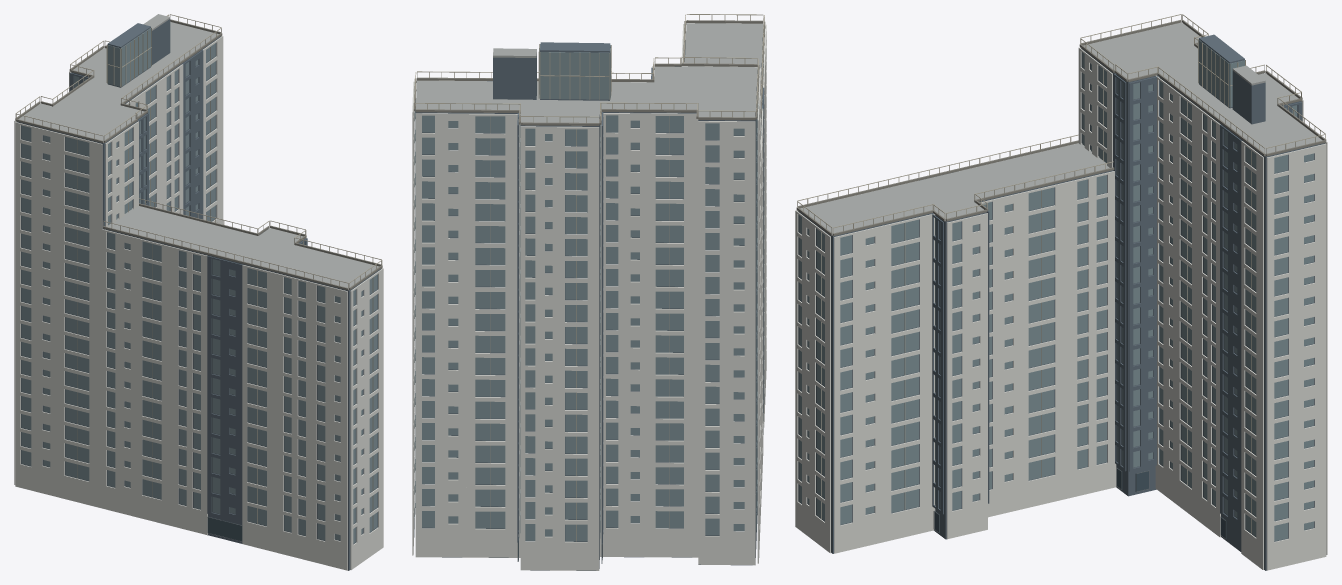
The model's file is bespoke-raemian-onebailey-107.glb.
3 renders of one model, left to right at view 1: azimuth 30°, elevation 25°; view 2: azimuth 150°, elevation 25°; view 3: azimuth 270°, elevation 25°, orthographic. The views are drawn at different scales.
Visible parts, largest first — view 1: 107_pale_bays_navy_shafts001_4, 107_pale_bays_navy_shafts001, 107_glass_roof_crown001_3, 107_pale_bays_navy_shafts001_3, 107_editable_massing, 107_glass_roof_crown001, 107_glass_roof_crown001_1, 107_pale_bays_navy_shafts001_2, 107_pale_bays_navy_shafts001_1; view 2: 107_pale_bays_navy_shafts001_4, 107_pale_bays_navy_shafts001, 107_glass_roof_crown001_3, 107_editable_massing, 107_glass_roof_crown001, 107_pale_bays_navy_shafts001_3, 107_pale_bays_navy_shafts001_2, 107_glass_roof_crown001_1, 107_glass_roof_crown001_2; view 3: 107_pale_bays_navy_shafts001_4, 107_pale_bays_navy_shafts001, 107_pale_bays_navy_shafts001_3, 107_editable_massing, 107_glass_roof_crown001_3, 107_glass_roof_crown001, 107_glass_roof_crown001_1, 107_pale_bays_navy_shafts001_2.
Part boxes in pixels (x1,y1,x2,y2): 107_pale_bays_navy_shafts001_4: (14,22,383,570); 107_pale_bays_navy_shafts001: (21,28,377,543); 107_glass_roof_crown001_3: (19,14,379,290); 107_pale_bays_navy_shafts001_3: (69,48,307,522); 107_editable_massing: (16,19,381,570); 107_glass_roof_crown001: (15,19,382,290); 107_glass_roof_crown001_1: (15,14,382,288); 107_pale_bays_navy_shafts001_2: (77,27,373,530); 107_pale_bays_navy_shafts001_1: (207,516,242,541); 107_pale_bays_navy_shafts001_4: (412,23,766,570); 107_pale_bays_navy_shafts001: (414,42,763,541); 107_glass_roof_crown001_3: (416,23,763,125); 107_editable_massing: (415,29,763,570); 107_glass_roof_crown001: (413,20,765,130); 107_pale_bays_navy_shafts001_3: (487,66,764,543); 107_pale_bays_navy_shafts001_2: (490,44,763,541); 107_glass_roof_crown001_1: (414,14,764,123); 107_glass_roof_crown001_2: (540,42,610,52); 107_pale_bays_navy_shafts001_4: (795,22,1327,570); 107_pale_bays_navy_shafts001: (799,39,1313,541); 107_pale_bays_navy_shafts001_3: (919,73,1302,528); 107_editable_massing: (798,48,1324,570); 107_glass_roof_crown001_3: (800,22,1322,236); 107_glass_roof_crown001: (796,20,1326,235); 107_glass_roof_crown001_1: (797,14,1325,233); 107_pale_bays_navy_shafts001_2: (821,39,1251,533).
Size of the model in its own units: 39.54 by 62.65 by 65.5.
